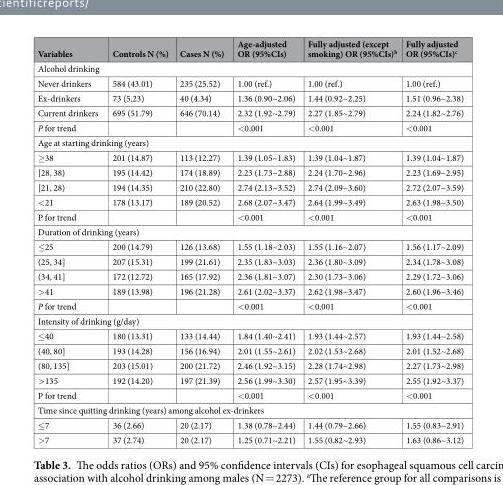table: (36, 37, 463, 445)
table column: (300, 37, 400, 445), (230, 37, 300, 445), (104, 37, 173, 445), (36, 37, 104, 445), (400, 37, 463, 445), (173, 37, 230, 445)
table column header: (36, 37, 463, 60)
table projected row header: (36, 60, 463, 75), (36, 134, 463, 149), (36, 313, 463, 328), (36, 402, 463, 417), (36, 224, 463, 238)
table row: (36, 37, 463, 60), (36, 60, 463, 75), (36, 75, 463, 90), (36, 90, 463, 105), (36, 119, 463, 134), (36, 134, 463, 149), (36, 149, 463, 164), (36, 164, 463, 179), (36, 179, 463, 194), (36, 194, 463, 209), (36, 209, 463, 224), (36, 238, 463, 253), (36, 253, 463, 268), (36, 268, 463, 283), (36, 283, 463, 298), (36, 298, 463, 313), (36, 313, 463, 328), (36, 342, 463, 357), (36, 357, 463, 372), (36, 372, 463, 387), (36, 387, 463, 402), (36, 402, 463, 417), (36, 417, 463, 432), (36, 105, 463, 119), (36, 224, 463, 238), (36, 328, 463, 342), (36, 432, 463, 445)
